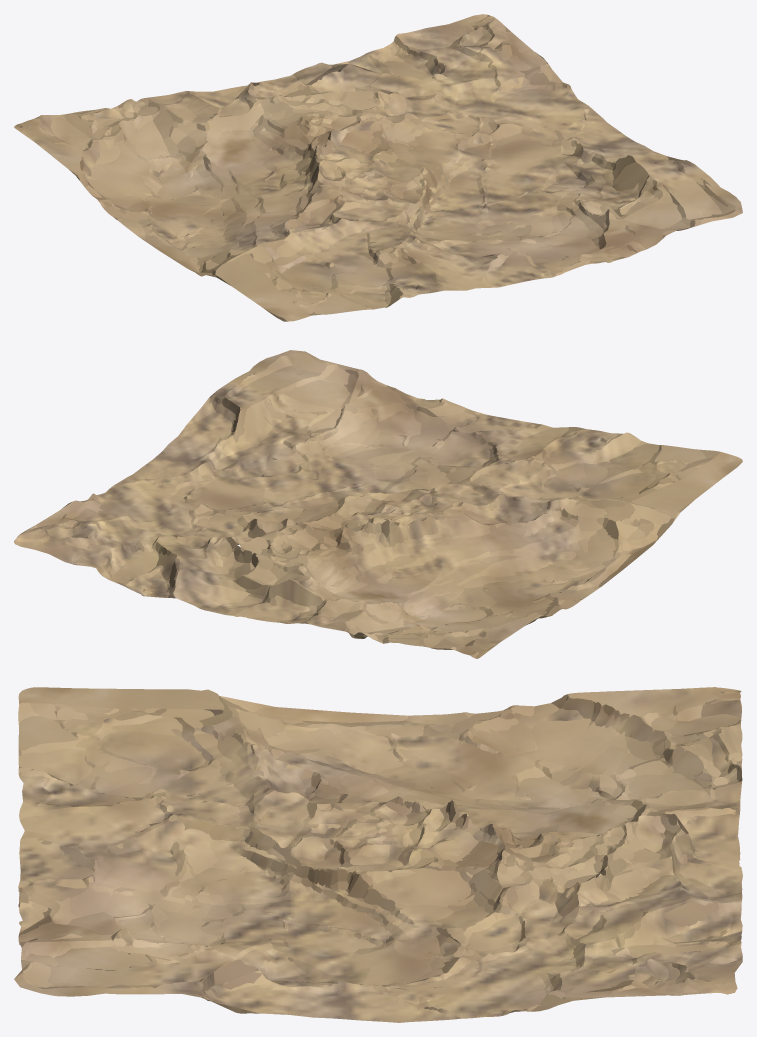
The model's file is landmass.fbx.
The picture shows the model from 3 angles, top to bottom: view 1: azimuth 30°, elevation 25°; view 2: azimuth 150°, elevation 25°; view 3: azimuth 270°, elevation 25°; orthographic projection. The views are drawn at different scales.
Visible parts, largest first — view 1: Plane; view 2: Plane; view 3: Plane.
Boxes of the visible parts, x1,y1,x2,y2 form: Plane: (14,14,742,321); Plane: (14,350,742,658); Plane: (14,687,742,1022).
Bounding box in the file's own units: 160723 × 14790 × 160831.
Materials: 1 (1 with a texture image).
